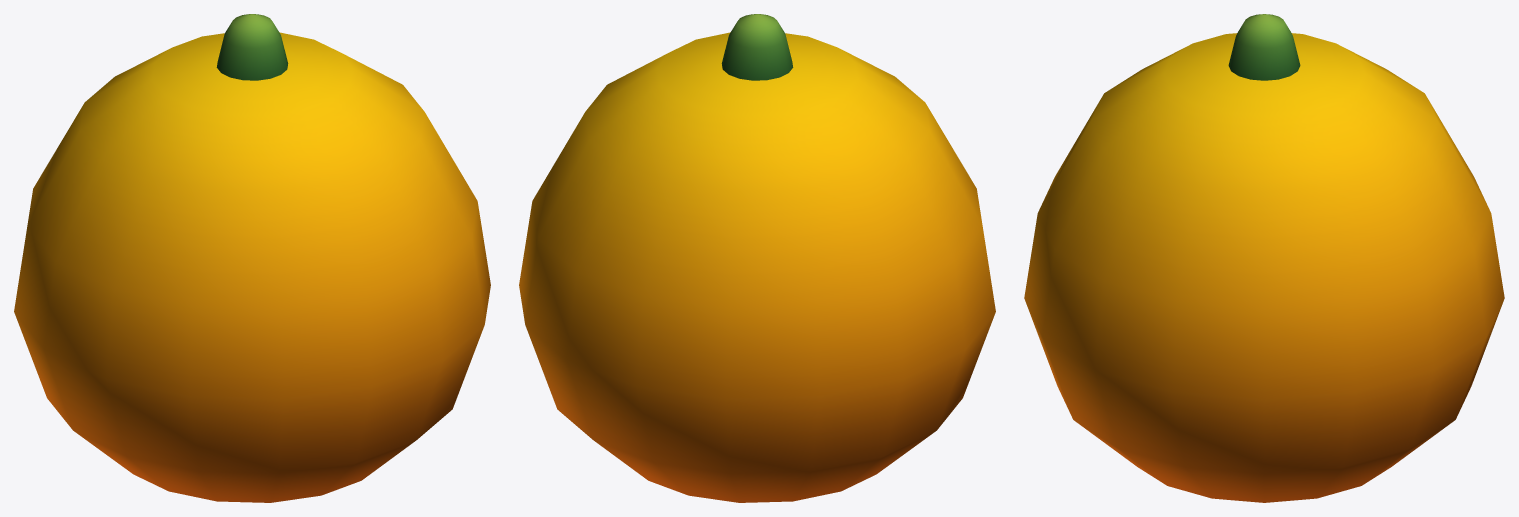
Rendered from Grapefruit_02.glb.
3 views of the same model, side by side, from view 1: azimuth 30°, elevation 25°; view 2: azimuth 150°, elevation 25°; view 3: azimuth 270°, elevation 25° (orthographic).
Parts seen in each view (by area): view 1: Grapefruit_02; view 2: Grapefruit_02; view 3: Grapefruit_02.
Part boxes in pixels (<box>): Grapefruit_02: <box>14,14,490,502</box>; Grapefruit_02: <box>519,14,995,502</box>; Grapefruit_02: <box>1024,14,1504,502</box>.
Size of the model in its own units: 0.2372 by 0.2541 by 0.2372.
1 material, 1 textured.
